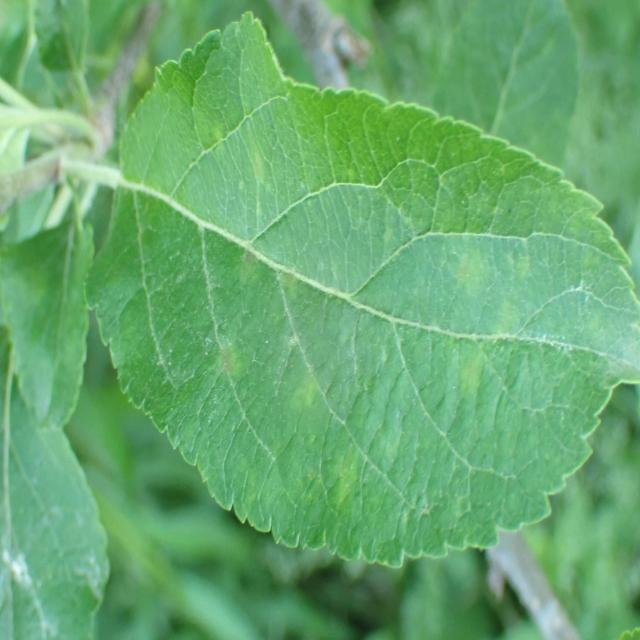scab: (137, 91, 622, 543)
